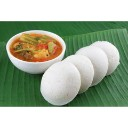idly: (39, 62, 81, 105), (77, 47, 108, 86), (65, 55, 93, 93), (90, 40, 119, 75)
